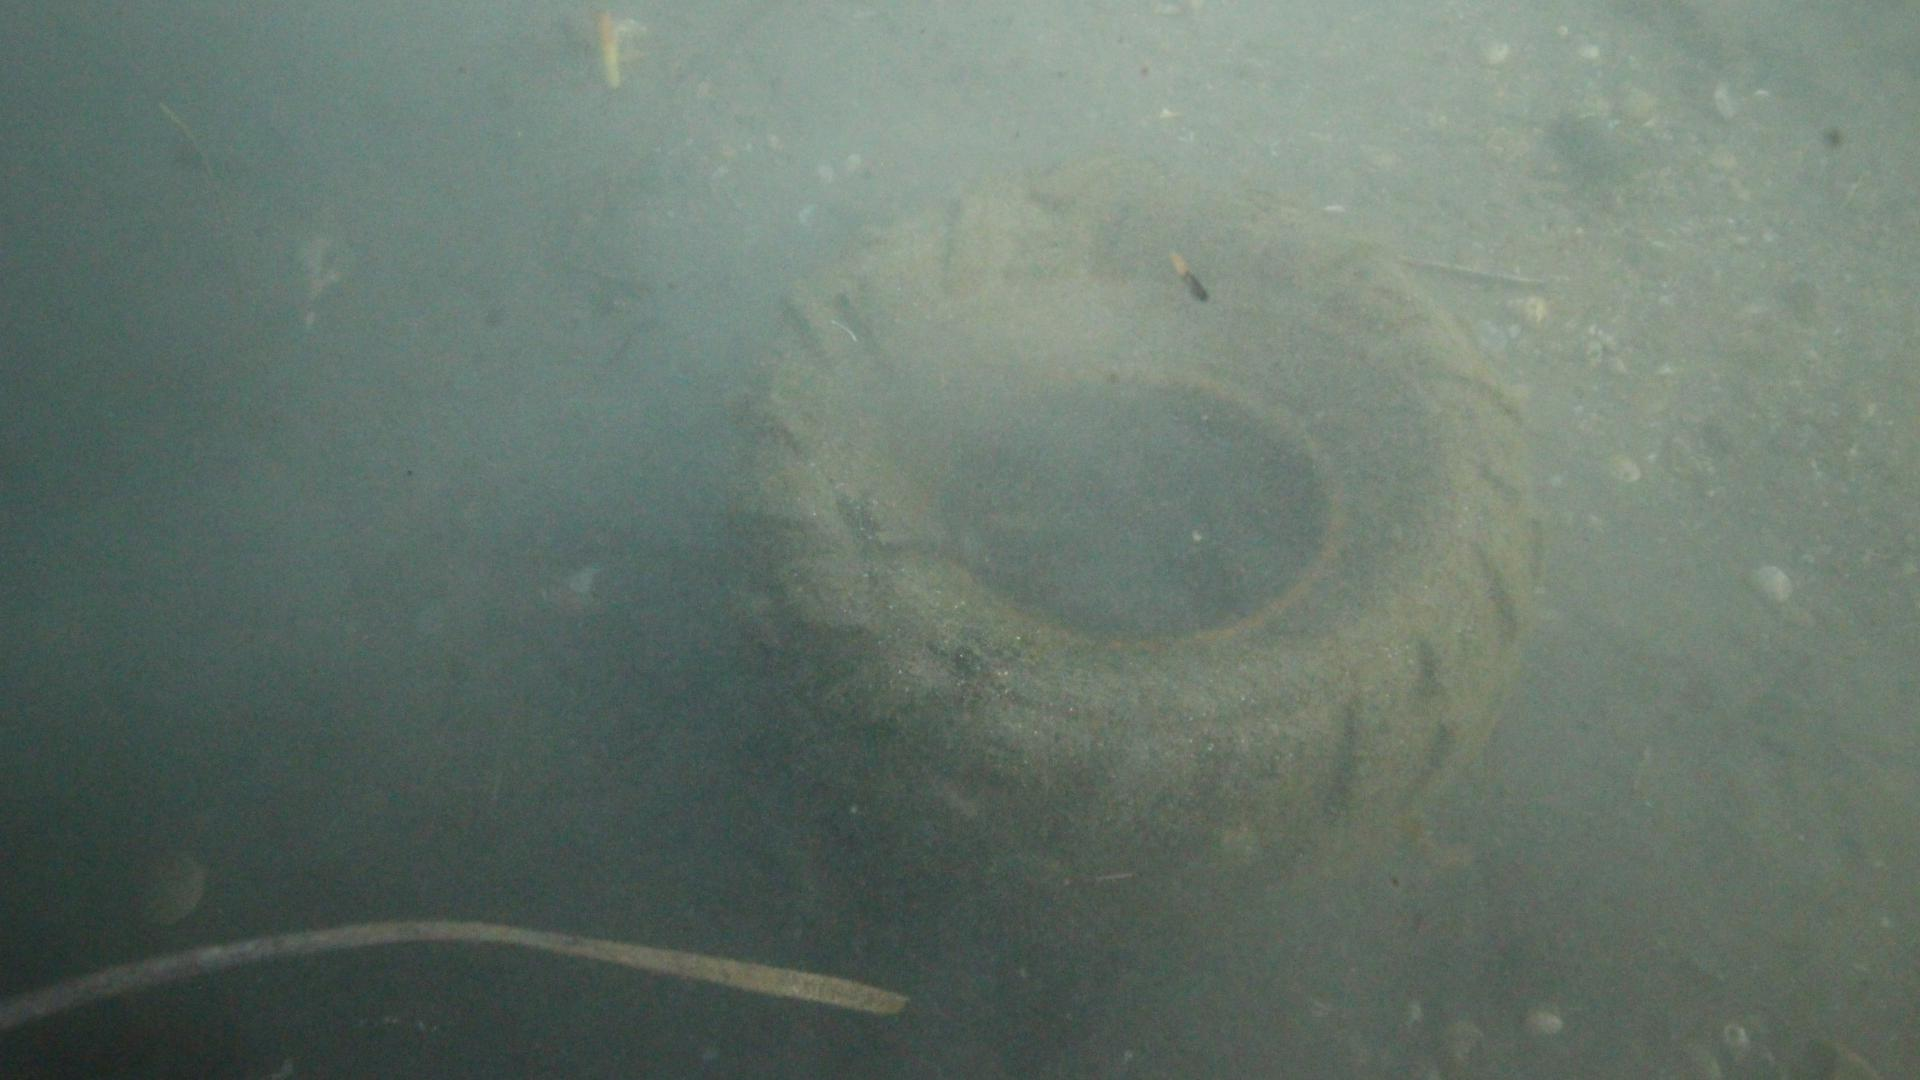tire: (723, 158, 1545, 916)
